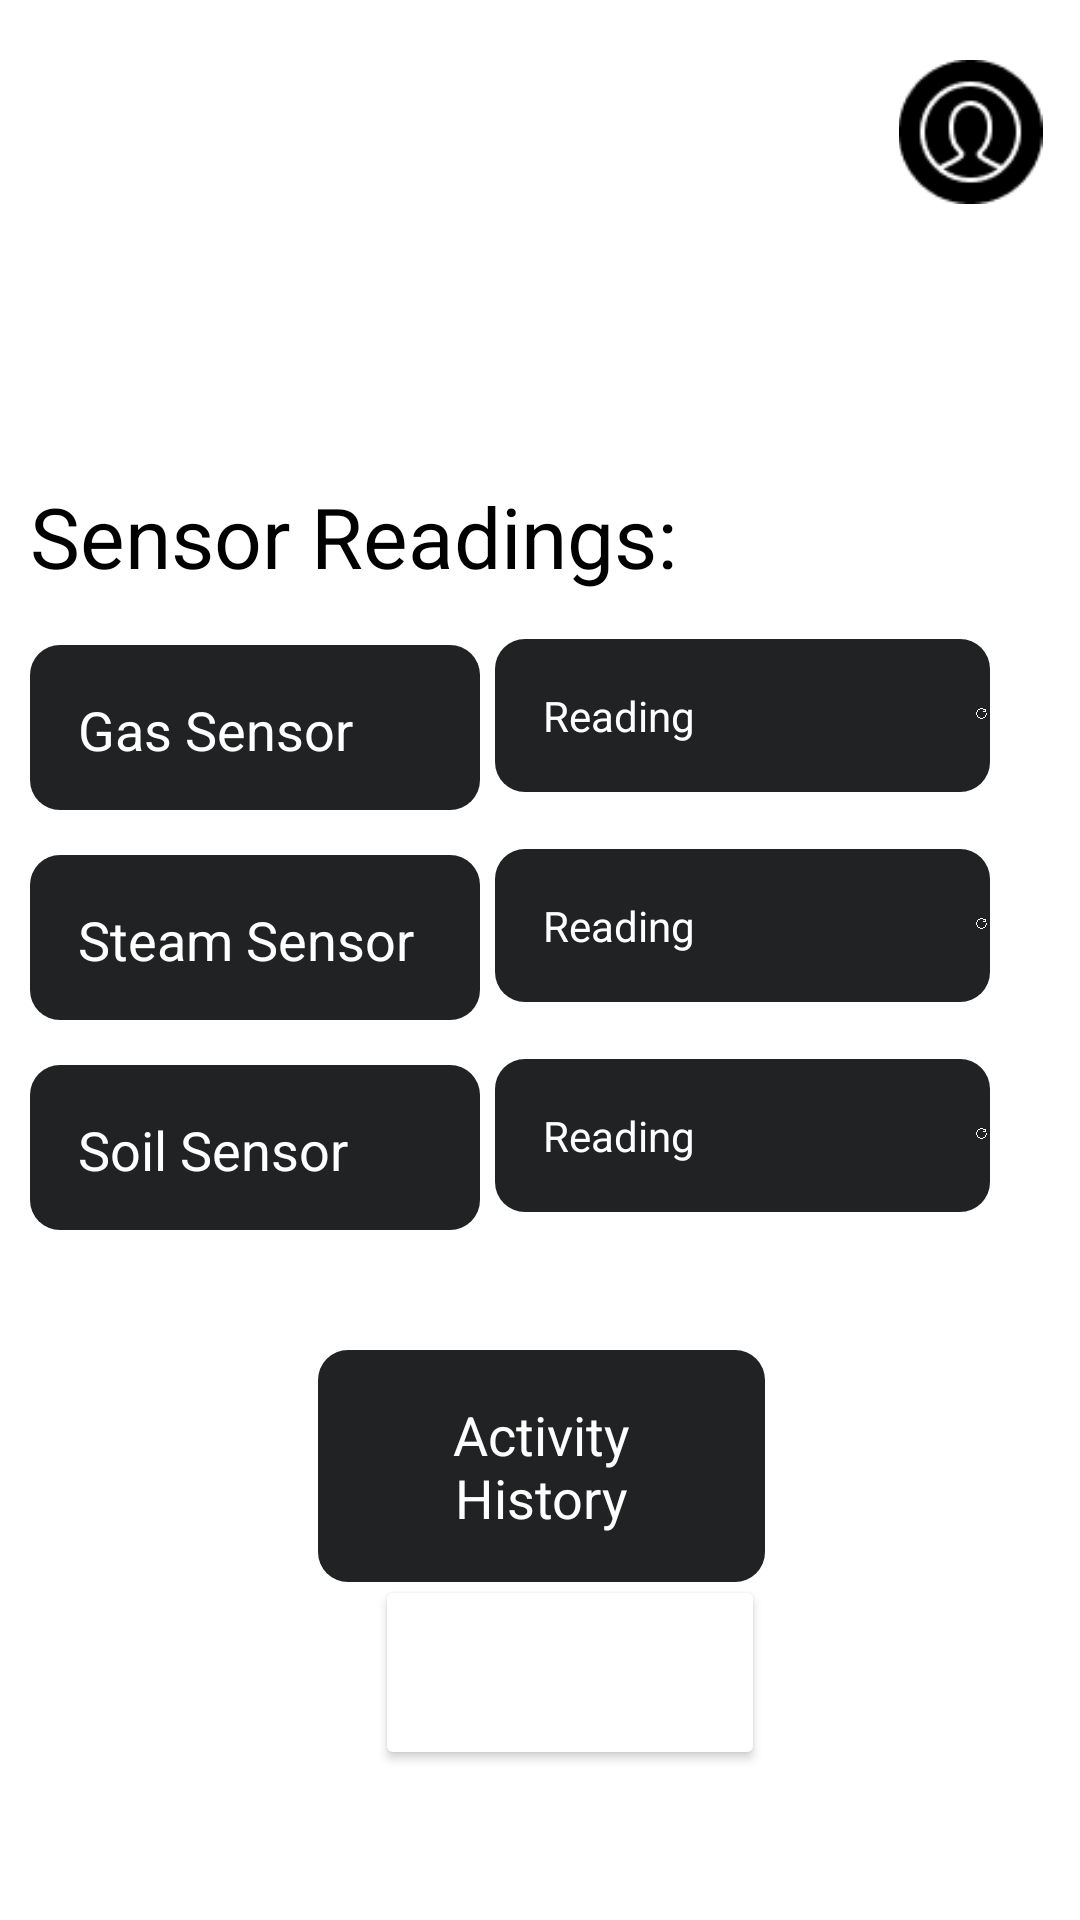

Locate icon controls on the screen. Image size 1080px×1920px, boxes as {"x1": x1, "y1": y1, "x2": x2, "y2": y2}.
Profile Icon: {"x1": 899, "y1": 60, "x2": 1043, "y2": 204}
